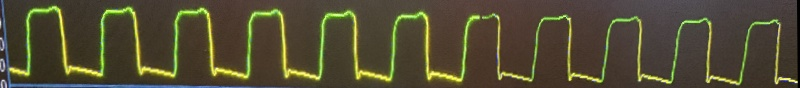normal_pressure: (3, 5, 791, 88)
